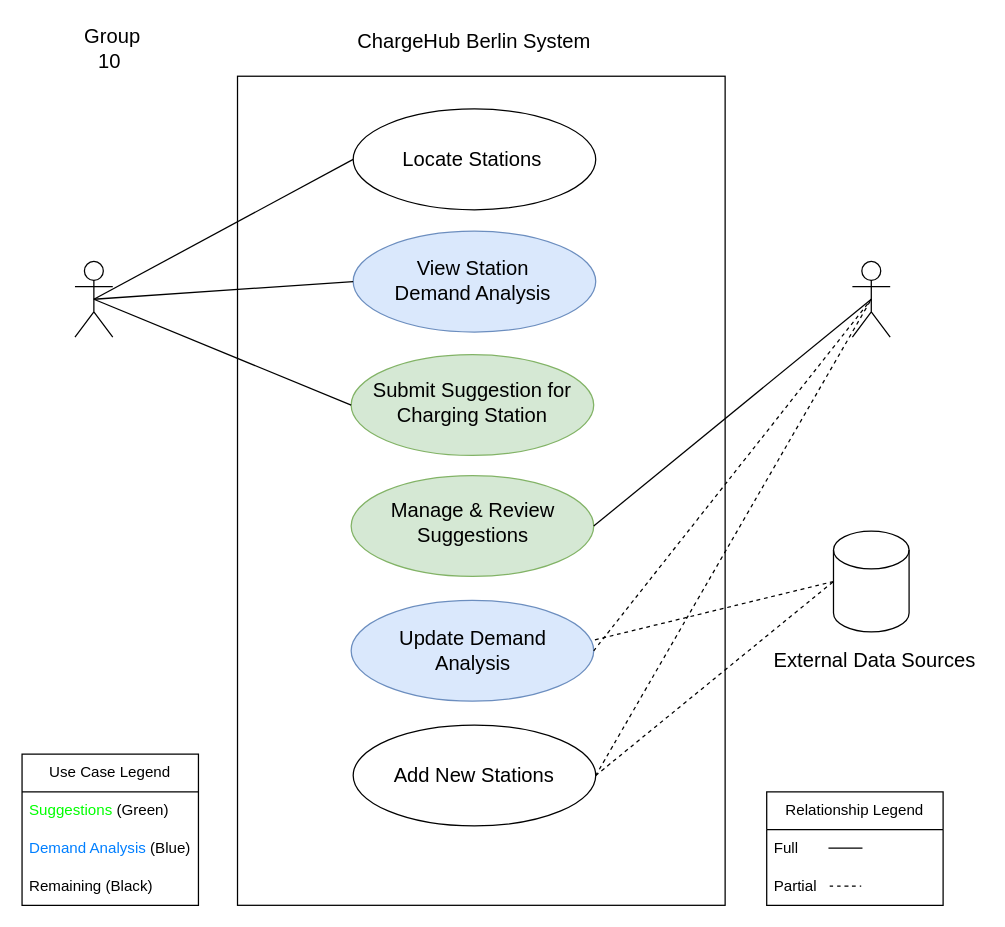
Image size: 1005x927. Some labels were removed from this diagram. Here are the shapes that lost their labels. From the top down, the centre of each, then its label:
At point (93, 298): "Resident (User)".
At point (870, 298): "Admin".
